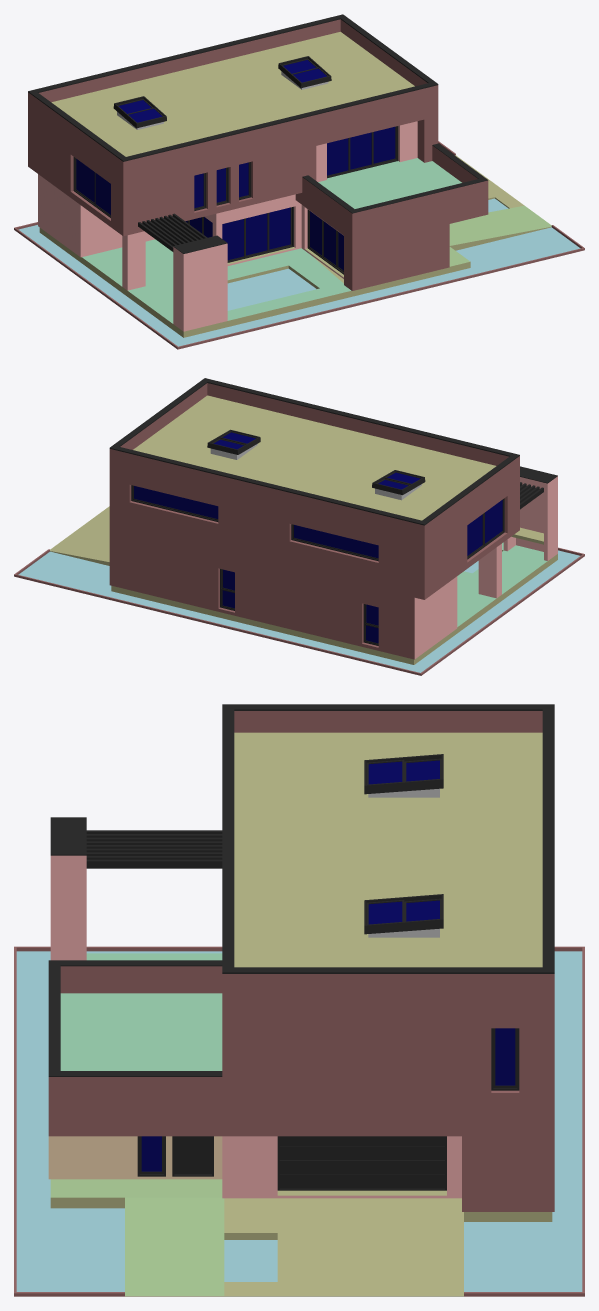
Rendered from noqkhoone.fbx.
The picture shows the model from 3 angles, top to bottom: view 1: azimuth 30°, elevation 25°; view 2: azimuth 150°, elevation 25°; view 3: azimuth 270°, elevation 25°; orthographic projection. The views are drawn at different scales.
Parts seen in each view (by area): view 1: MH03_OBJ01, MH03_OBJ03, MH03_OBJ02, MH03_OBJ04; view 2: MH03_OBJ01, MH03_OBJ03, MH03_OBJ02, MH03_OBJ04; view 3: MH03_OBJ01, MH03_OBJ03, MH03_OBJ02, MH03_OBJ04.
Part boxes in pixels (left/top/right/bottom): MH03_OBJ01: left=28, top=14, right=488, bottom=331; MH03_OBJ03: left=14, top=141, right=584, bottom=349; MH03_OBJ02: left=73, top=126, right=398, bottom=274; MH03_OBJ04: left=113, top=56, right=331, bottom=129; MH03_OBJ01: left=109, top=378, right=557, bottom=664; MH03_OBJ03: left=14, top=506, right=584, bottom=675; MH03_OBJ02: left=131, top=485, right=504, bottom=645; MH03_OBJ04: left=207, top=429, right=425, bottom=500; MH03_OBJ01: left=48, top=704, right=554, bottom=1221; MH03_OBJ03: left=14, top=946, right=584, bottom=1296; MH03_OBJ02: left=137, top=1028, right=519, bottom=1190; MH03_OBJ04: left=364, top=754, right=443, bottom=937.
Size of the model in its own units: 2.27 by 0.7643 by 1.58.
